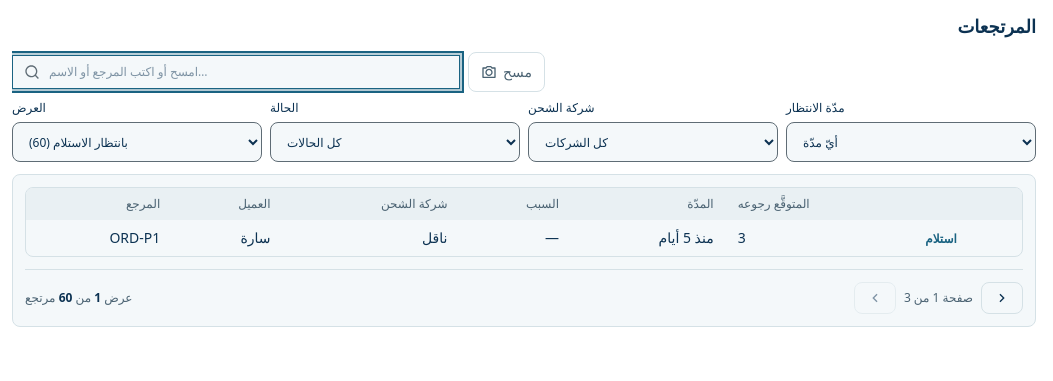
Test: the two views › and a missing count is said too — «ناقص 2» — and a receipt that has none is a dash
The image size is (1053, 381).
Select "تم استلامها (14)" in the dropdown labelled "العرض" at (137, 142), box [12,122,262,162]
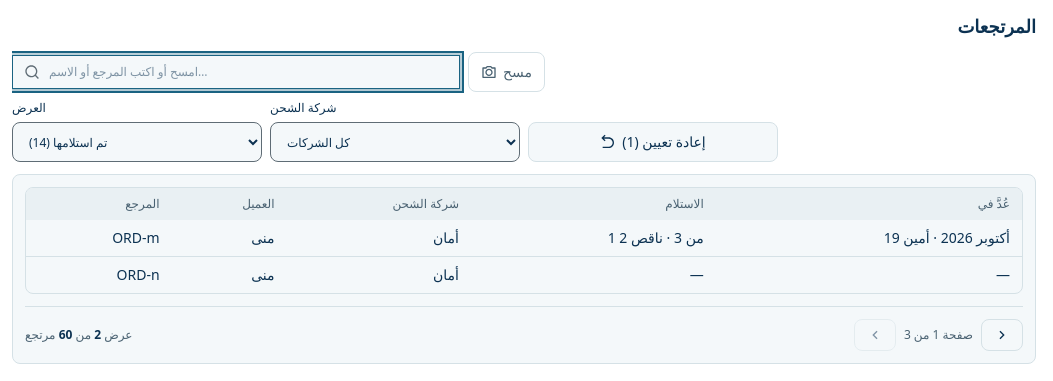
Now the text "ORD-m" is shown, box [112,228,160,247]
Now the text "ORD-m" shows "1 من 3 · ناقص 2", box [26,220,1022,256]
